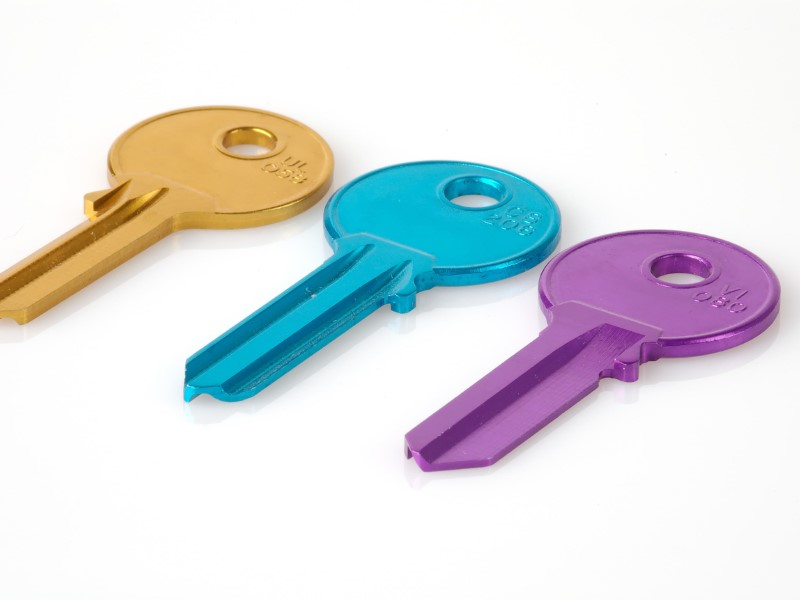key: (178, 155, 566, 414), (399, 232, 777, 477), (0, 104, 331, 334)
